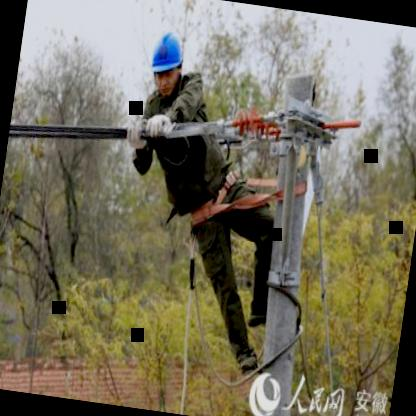helmet: (142, 24, 190, 104)
